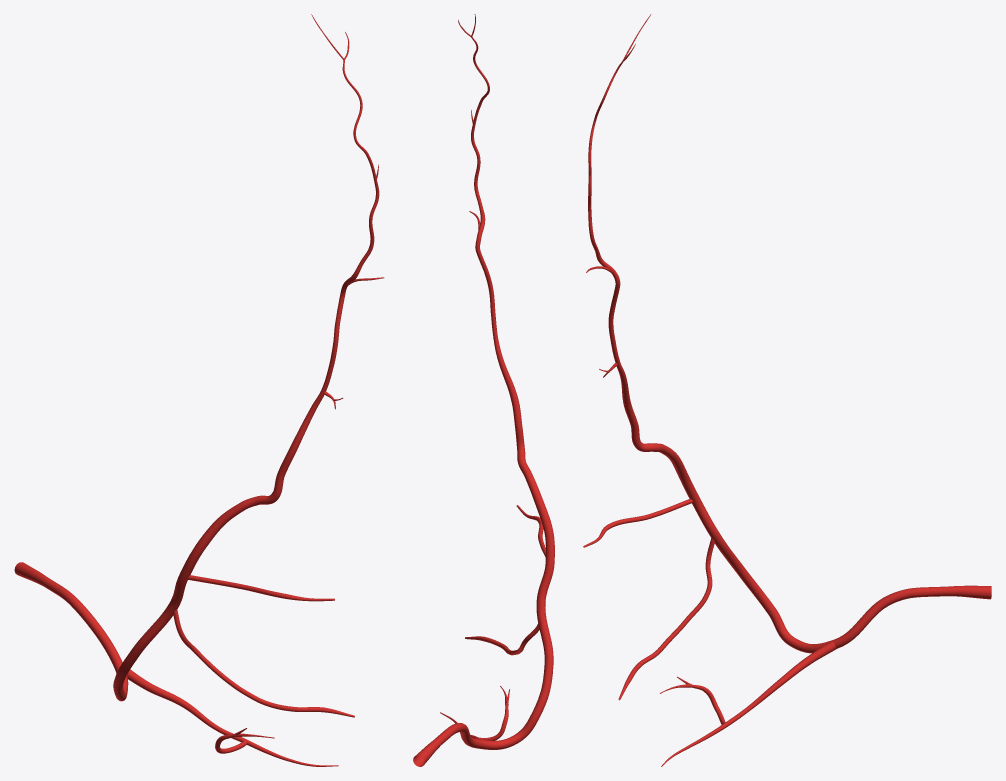
File: circulatorio-facial-artery-r.glb
The picture shows the model from 3 angles, left to right: view 1: azimuth 30°, elevation 25°; view 2: azimuth 150°, elevation 25°; view 3: azimuth 270°, elevation 25°; orthographic projection. The views are drawn at different scales.
Parts seen in each view (by area): view 1: Facial artery.r, Angular artery.r, Submental artery.r, Inferior labial artery.r, Superior labial artery.r; view 2: Facial artery.r, Angular artery.r, Inferior labial artery.r, Submental artery.r, Superior labial artery.r; view 3: Facial artery.r, Angular artery.r, Submental artery.r, Inferior labial artery.r.
Boxes of the visible parts, left/top/right/bottom form: Facial artery.r: left=14, top=534, right=211, bottom=701; Angular artery.r: left=204, top=14, right=384, bottom=539; Submental artery.r: left=120, top=665, right=338, bottom=766; Inferior labial artery.r: left=173, top=609, right=354, bottom=717; Superior labial artery.r: left=187, top=575, right=334, bottom=601; Facial artery.r: left=413, top=513, right=554, bottom=766; Angular artery.r: left=458, top=14, right=547, bottom=515; Inferior labial artery.r: left=465, top=623, right=539, bottom=655; Submental artery.r: left=440, top=686, right=509, bottom=740; Superior labial artery.r: left=516, top=505, right=545, bottom=557; Facial artery.r: left=675, top=464, right=991, bottom=653; Angular artery.r: left=586, top=14, right=683, bottom=470; Submental artery.r: left=660, top=641, right=836, bottom=766; Inferior labial artery.r: left=618, top=538, right=714, bottom=700.
Size of the model in its own units: 0.0404 by 0.1678 by 0.0843.
